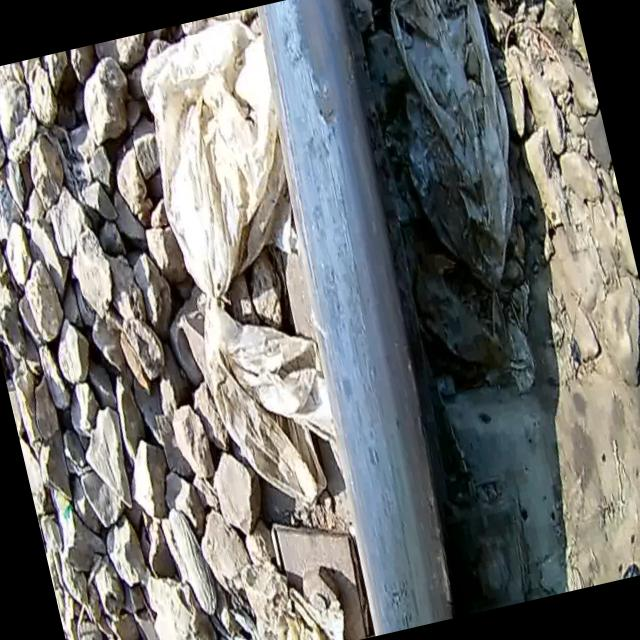Squats: (209, 0, 506, 640)
